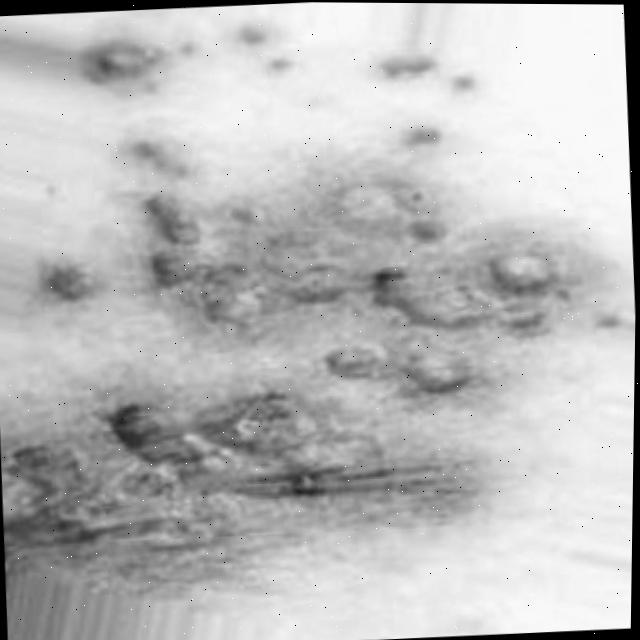Shingles: (0, 382, 485, 606), (281, 242, 575, 396), (138, 184, 272, 337), (318, 178, 452, 248), (85, 30, 172, 94), (238, 19, 296, 78), (40, 264, 103, 305), (377, 45, 438, 83), (126, 132, 183, 170), (398, 117, 443, 150), (449, 73, 473, 93)
